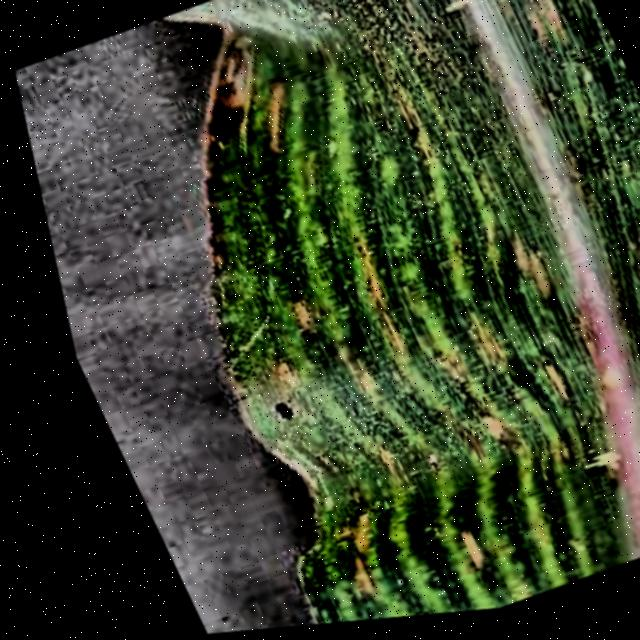gray_spot: (103, 0, 640, 631)
